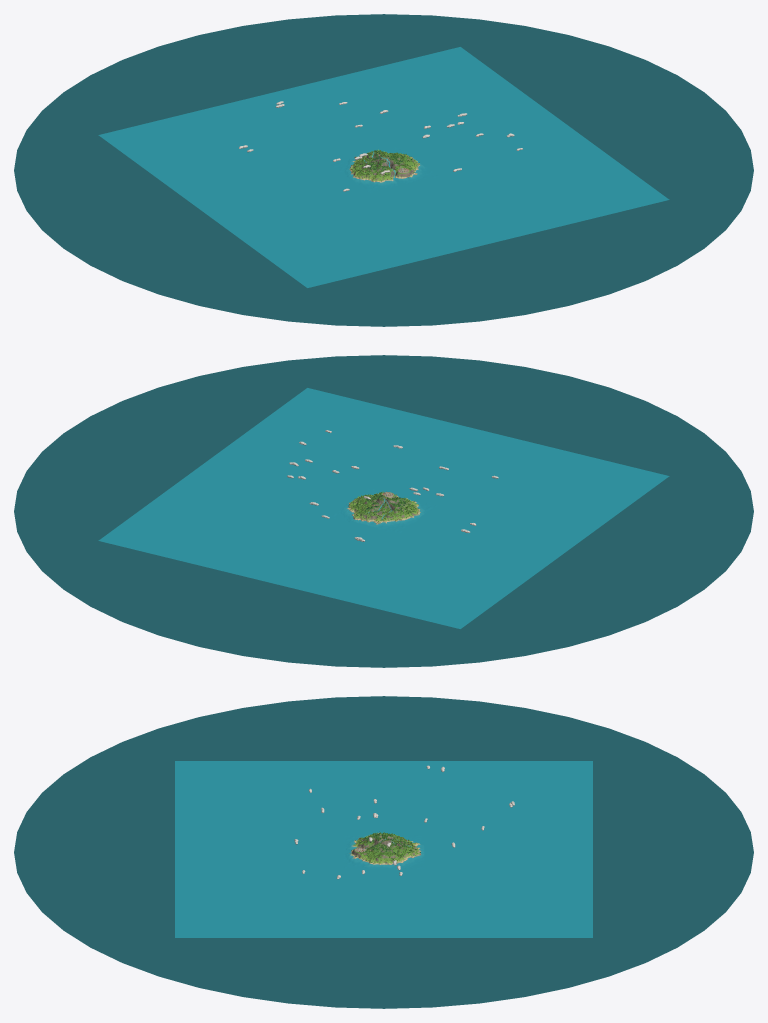
The model's file is island-284457.glb.
3 views of the same model, one above another, from view 1: azimuth 30°, elevation 25°; view 2: azimuth 150°, elevation 25°; view 3: azimuth 270°, elevation 25° (orthographic).
Parts seen in each view (by area): view 1: Seabed, Sea, Terrain, Trees, Clouds; view 2: Seabed, Sea, Terrain, Trees; view 3: Seabed, Sea, Terrain, Trees.
Boxes of the visible parts, box(x1,y1,x2,y2) form: Seabed: box(14, 14, 753, 326); Sea: box(98, 47, 669, 287); Terrain: box(333, 148, 432, 187); Trees: box(350, 149, 419, 181); Clouds: box(239, 101, 522, 191); Seabed: box(14, 355, 753, 667); Sea: box(98, 388, 669, 628); Terrain: box(331, 488, 420, 533); Trees: box(349, 491, 419, 521); Seabed: box(14, 696, 753, 1008); Sea: box(175, 761, 592, 937); Terrain: box(344, 833, 423, 868); Trees: box(351, 832, 420, 863).
Bounding box in the file's own units: 9200 × 479 × 9200.
